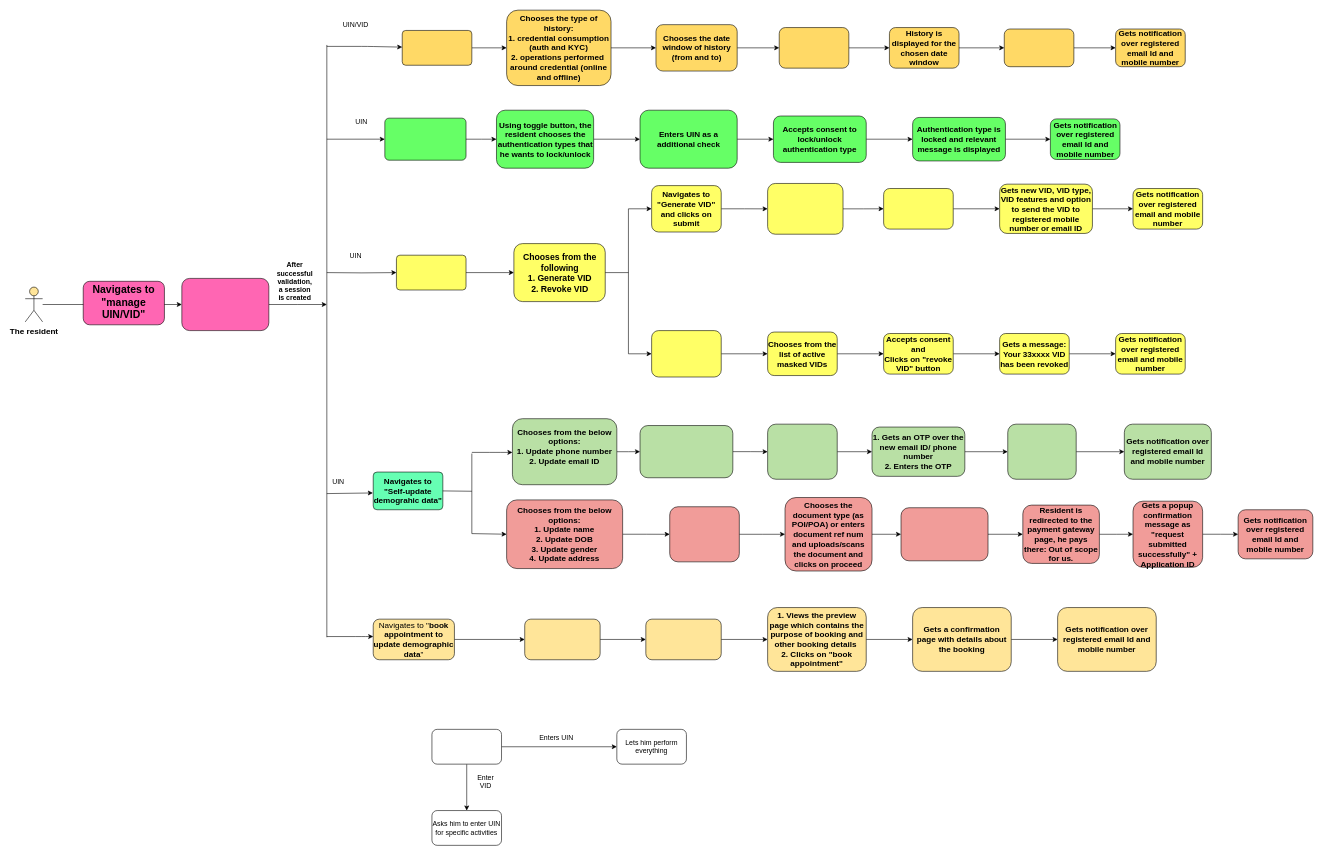
The diagram is 1323 pixels wide and 856 high, and some of its shapes have lost their labels. The box of each missing label's shape, as (x1, y1, x2, y2) in pixels:
1. Enters UIN/VID 2. Enters captcha 3. Enters OTP: (181, 278, 269, 331)
Can choose to export/ download/ print it: (1004, 28, 1074, 67)
Chooses the date, and time slot: (645, 619, 721, 660)
Chooses the type of VID 1. Perpetual VID 2. One-time VID 3. Temporary VID: (767, 183, 843, 234)
Clicks on "Submit" button: (883, 188, 953, 229)
Clicks on view history: (779, 27, 849, 68)
Email ID/phone number is updated: (1007, 424, 1076, 479)
Enter UIN/VID: (431, 729, 502, 764)
Enters the new data to be updated and a ccepts consent: (669, 506, 739, 562)
Enters the new email ID/ phone number: (767, 424, 837, 479)
Enters the UIN and the data that he needs to update: (524, 619, 600, 660)
He is asked for a consent: (639, 425, 733, 478)
Navigates to " view history": (402, 30, 472, 65)
Navigates to "Generate & manage VID": (396, 255, 466, 290)
Navigates to "lock/unlock an authentication type": (384, 118, 466, 160)
Navigates to "Revoke VID" and clicks on submit: (651, 330, 721, 377)
Views the final preview page, accepts consent and clicks on proceed: (900, 507, 988, 561)
